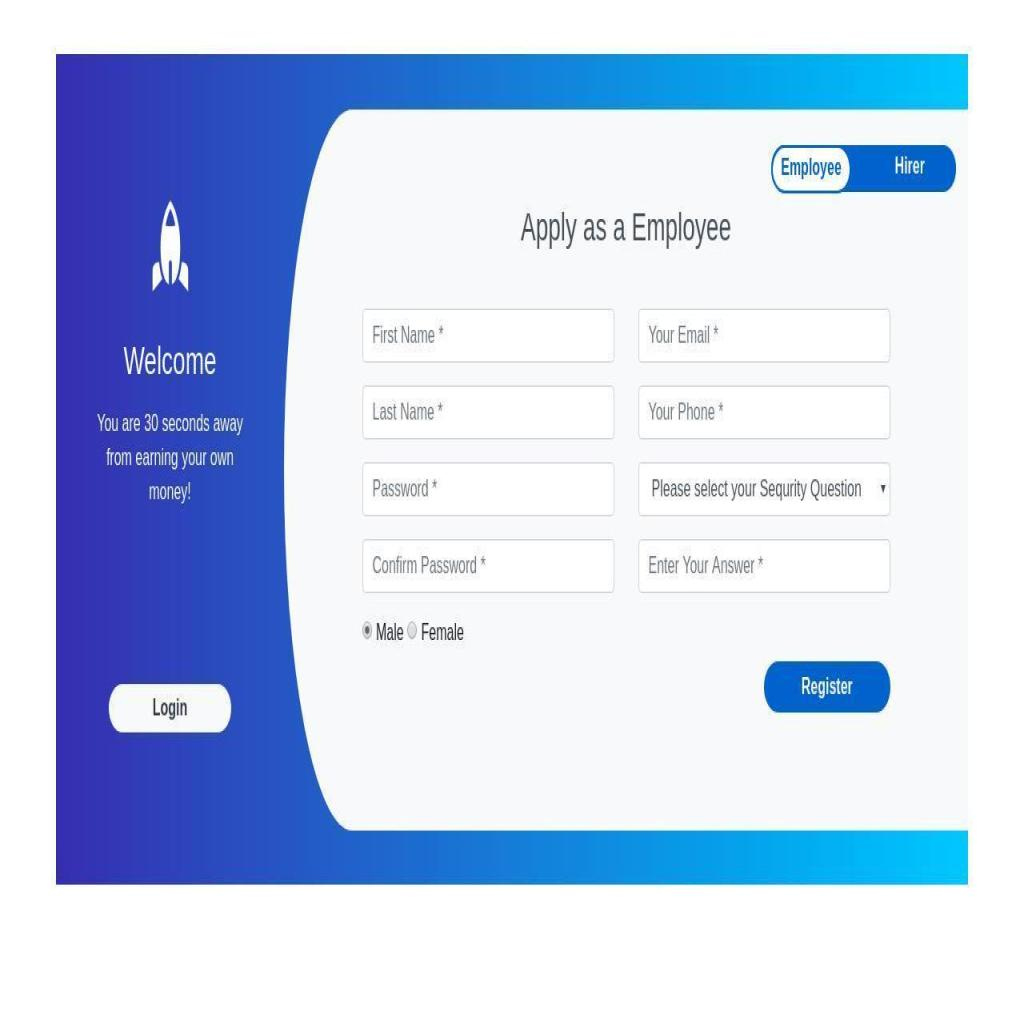button: (763, 658, 893, 716), (108, 684, 232, 733), (770, 146, 850, 192)
dropdown: (638, 461, 892, 516)
input: (638, 307, 891, 366), (362, 461, 615, 519), (638, 384, 891, 441), (362, 307, 614, 364), (362, 538, 616, 594), (637, 538, 891, 594), (362, 386, 615, 440)
label: (421, 616, 466, 646), (894, 152, 927, 181), (375, 617, 403, 646)
radio: (360, 618, 374, 644), (406, 618, 419, 644)
